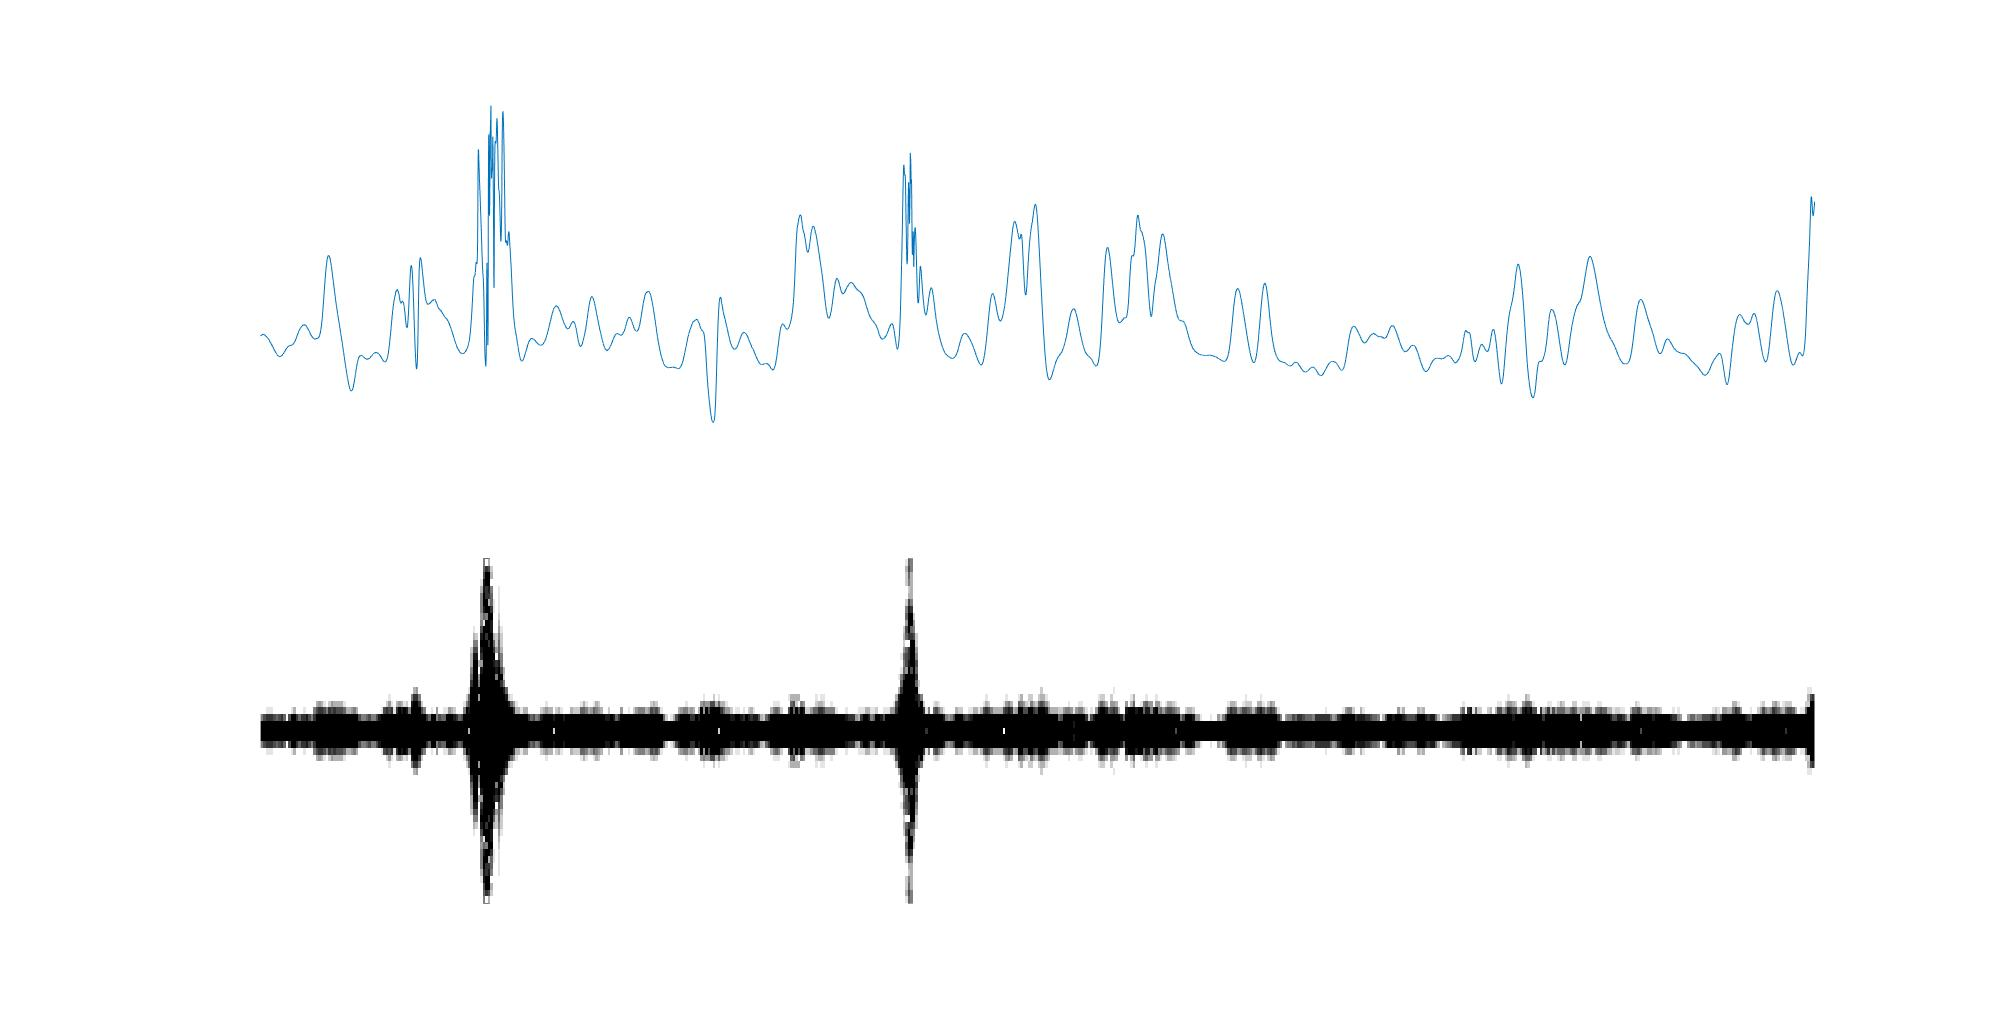spot: (468, 559, 513, 908), (892, 557, 933, 903)
